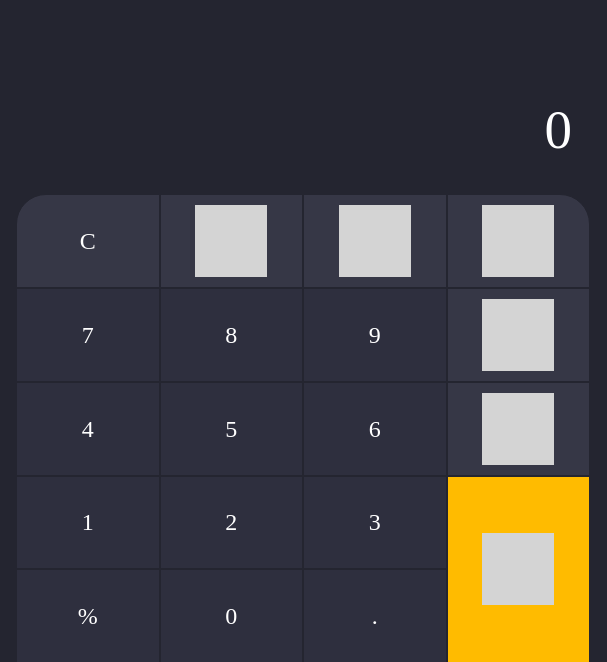
it: Calculator tests › Calculator logic '12 - 7'
Step 1. Click the button "1" → (88,522), box top-left (16, 476), bottom-right (160, 569)
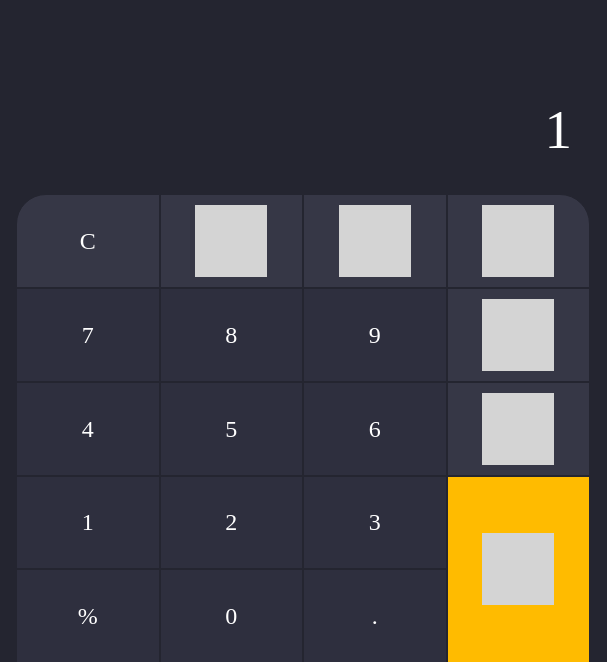
Step 2. Click the button "9" → (375,335), box top-left (303, 288), bottom-right (446, 382)
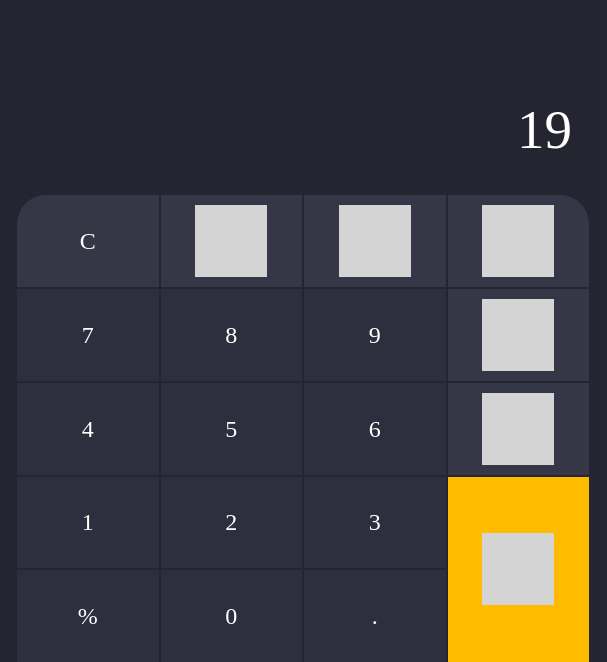
Step 3. Click the 4th button with alt text "-" → (518,335), box top-left (446, 288), bottom-right (590, 382)
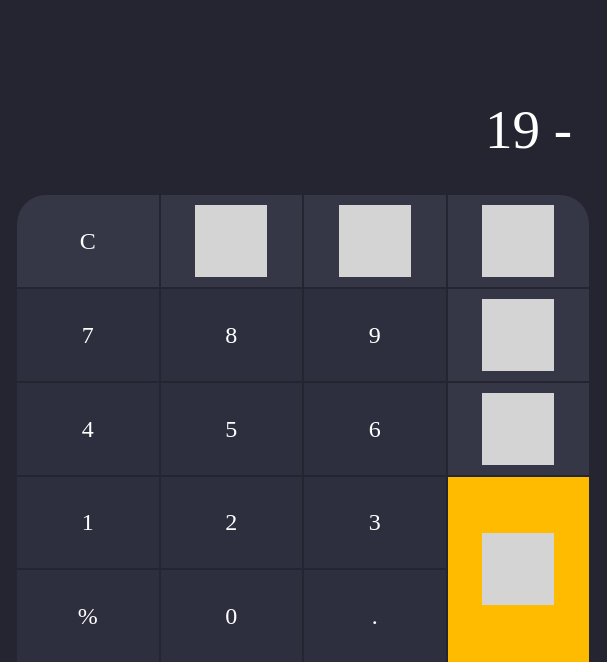
Step 4. Click the button "7" → (88,335), box top-left (16, 288), bottom-right (160, 382)
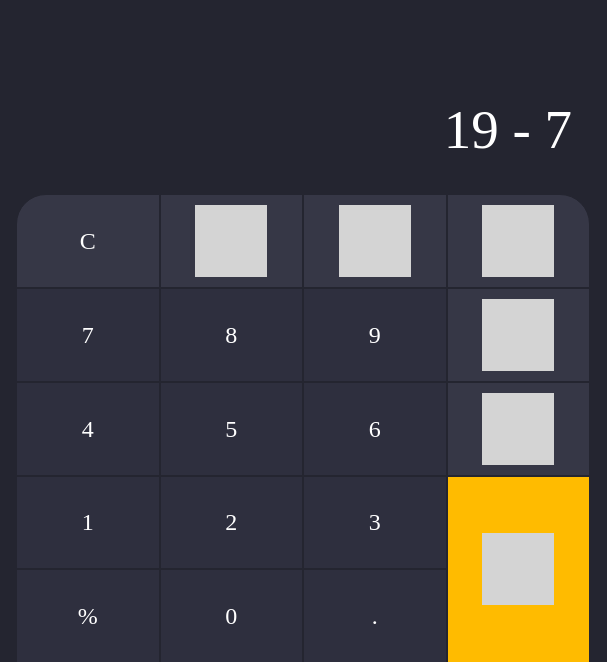
Step 5. Click the 6th button with alt text "=" → (518,569), box top-left (446, 476), bottom-right (590, 661)
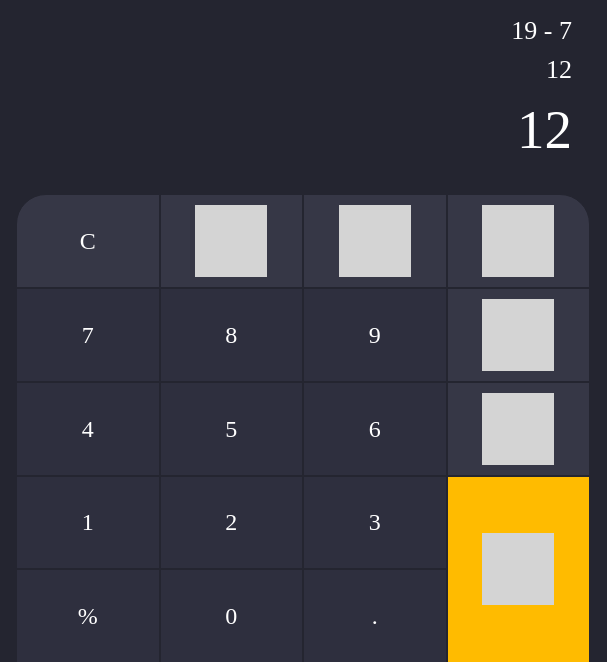
Now the text with test id "expression" reads "12", box top-left (517, 99), bottom-right (572, 160)
Now the element with test id "history" reads "19 - 7 12", box top-left (511, 16), bottom-right (572, 84)
